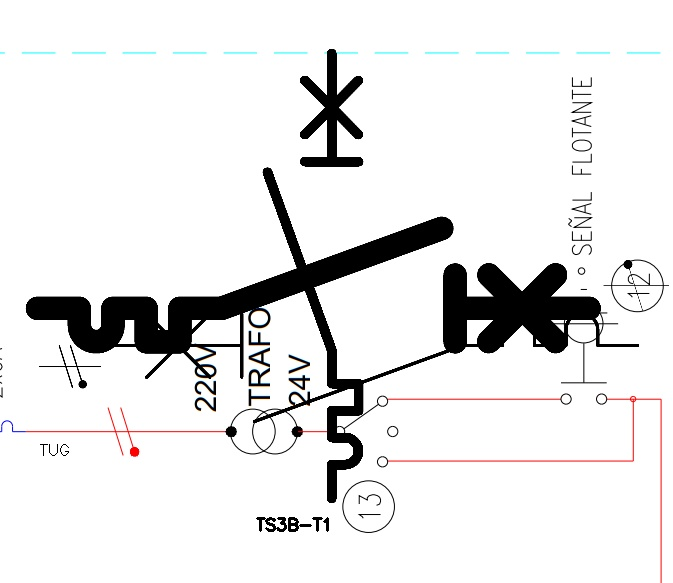interruptor_termomagnetico: (23, 214, 603, 356), (101, 300, 651, 434), (256, 42, 370, 510)
